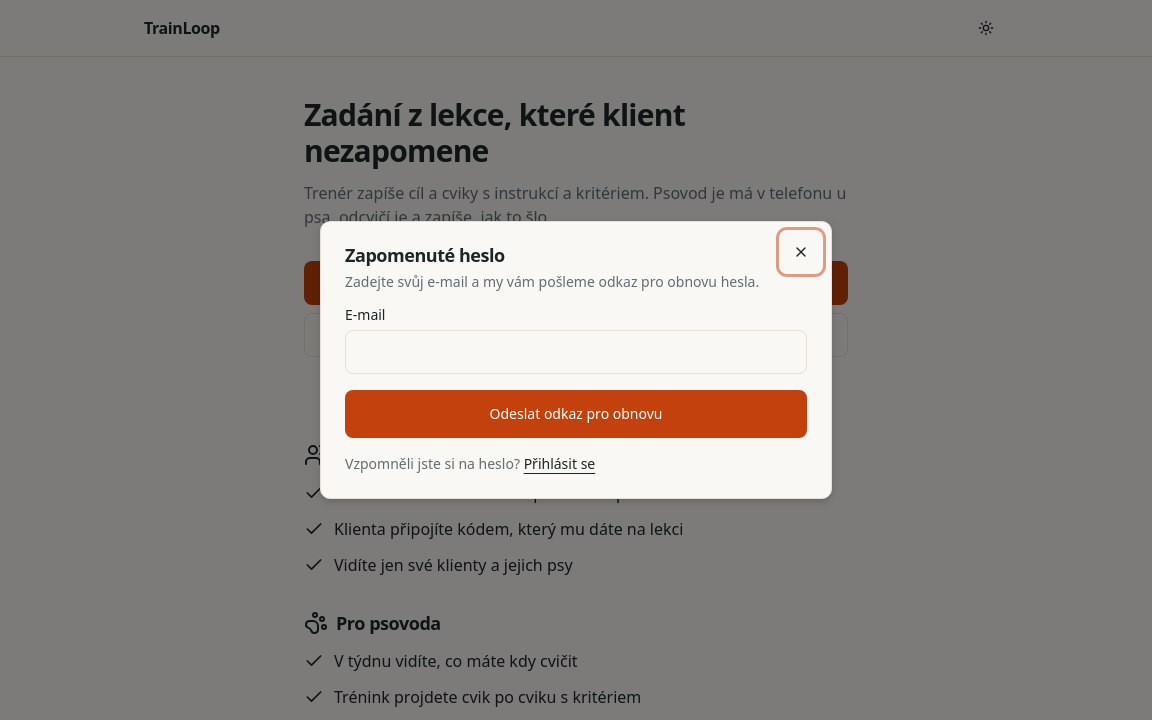
it: forgot password and reset password flows › submits email in forgot password modal and displays confirmation with back button
The width and height of the screenshot is (1152, 720).
In the field labelled "E-mail": (576, 352) [345,330,807,374], type "test@example.com"
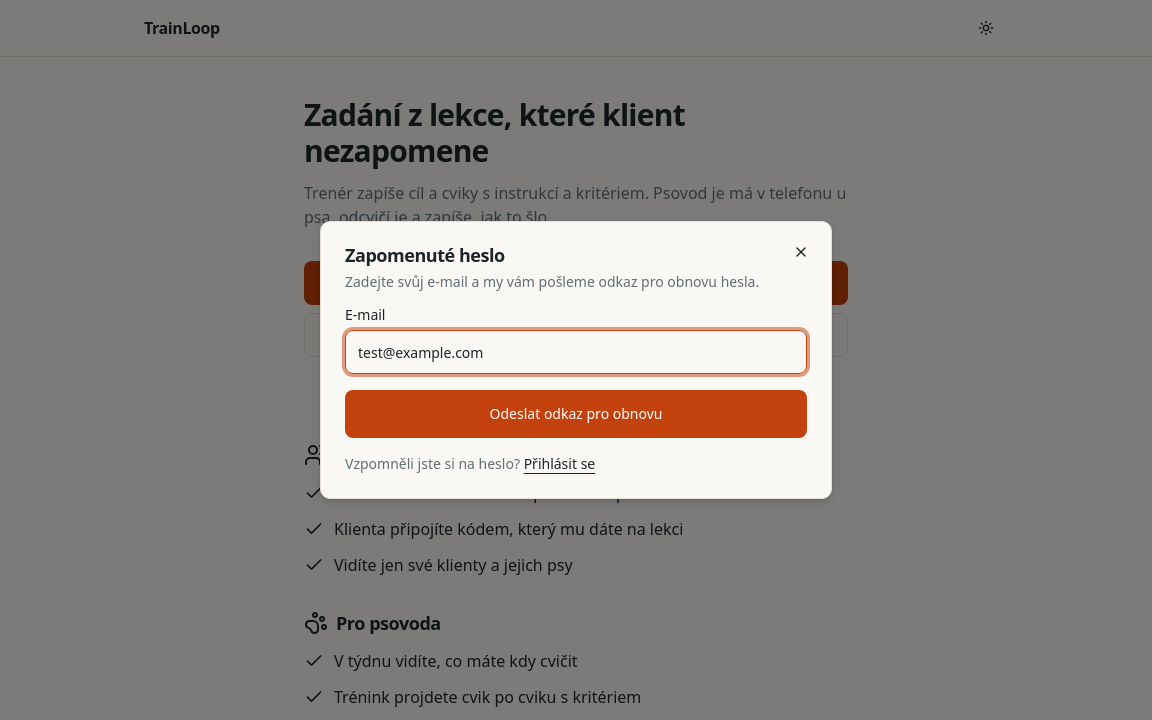
Click the button "Odeslat odkaz pro obnovu": (576, 414) [345,390,807,438]
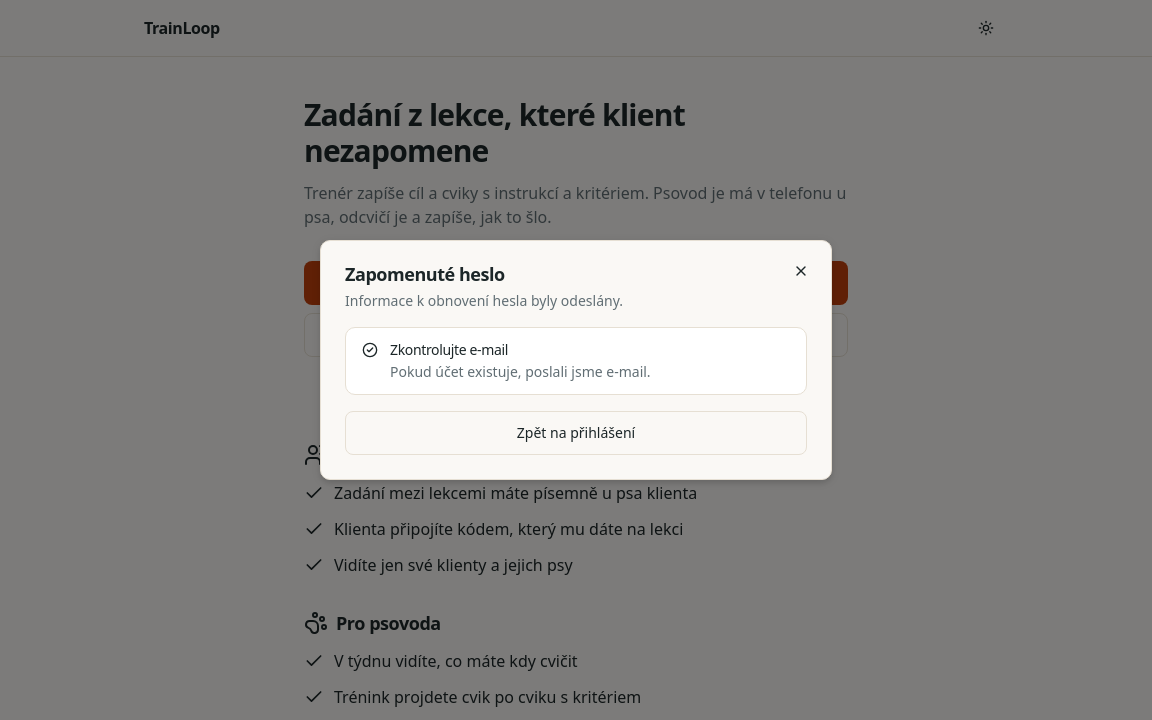
Check: the text "Pokud účet existuje, poslali jsme e-mail." is shown, box [390,362,651,381]
Check: the link "Zpět na přihlášení" is shown, box [345,411,807,455]
